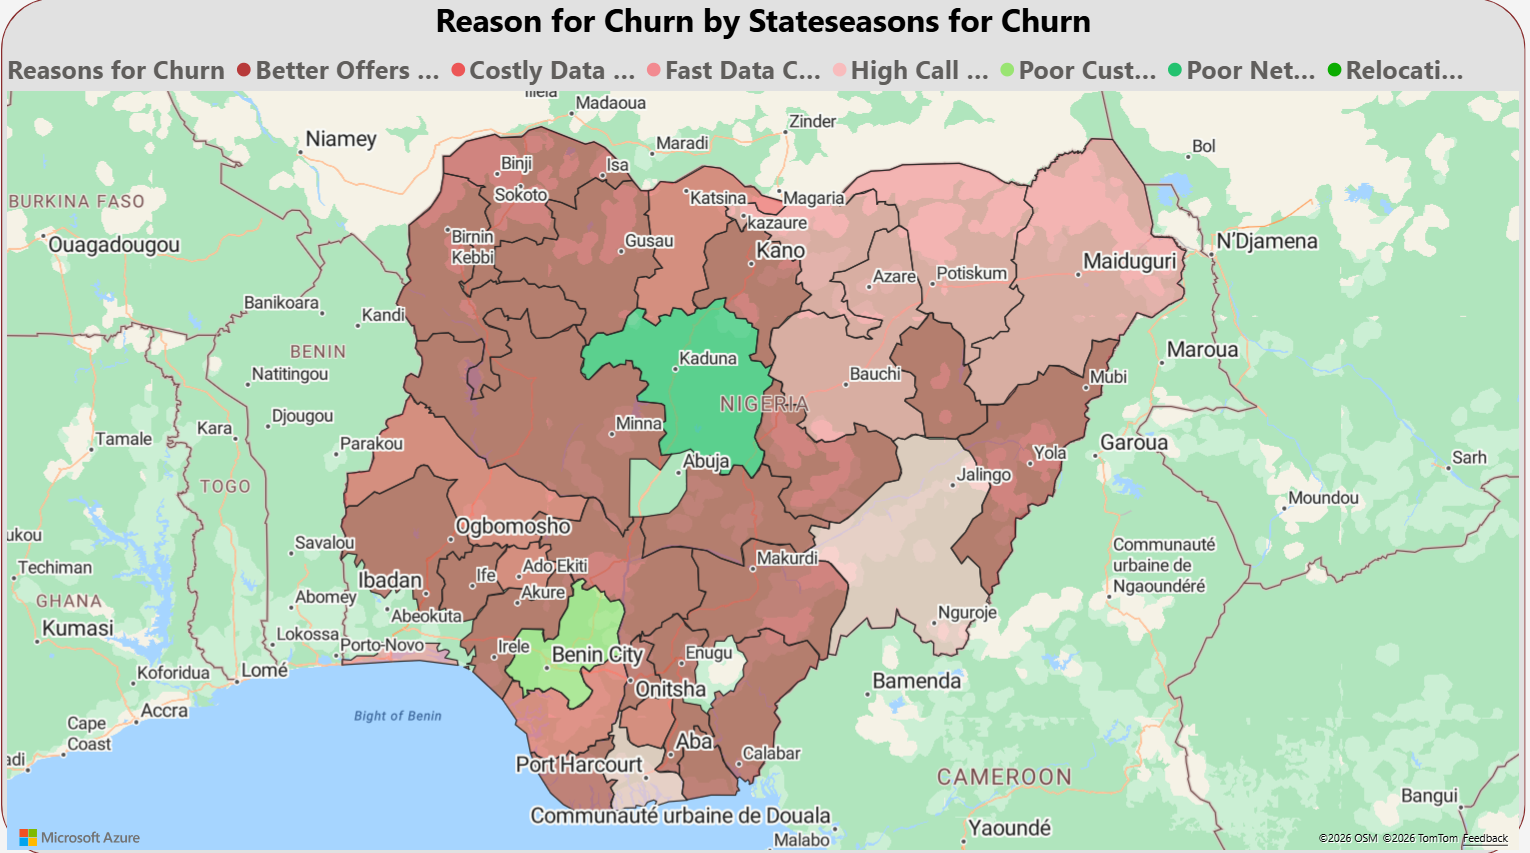

The page's visual inventory and layout, read from the dashboard file:
{"tool":"powerbi","page":{"name":"map density","canvas":[1280,720],"ordinal":3},"visuals":[{"type":"shape","title":"background color","box":[0.6,0,1279.4,720.1],"z":0},{"type":"azureMap","title":"Reason for Churn by Stateseasons for Churn","fields":{"Category":["mtn_customer_churn.State"],"Series":["mtn_customer_churn.Reasons for Churn"]},"box":[0,0,1279.4,720],"z":1000}]}

Visuals, with their boxes in screenshot pixels (x1, y1, x2, y2), scaled from the page's 1280x720 canvas onto the 1530x853 screenshot:
"background color" shape: {"left": 1, "top": 0, "right": 1529, "bottom": 852}
"Reason for Churn by Stateseasons for Churn" azureMap: {"left": 0, "top": 0, "right": 1529, "bottom": 852}
